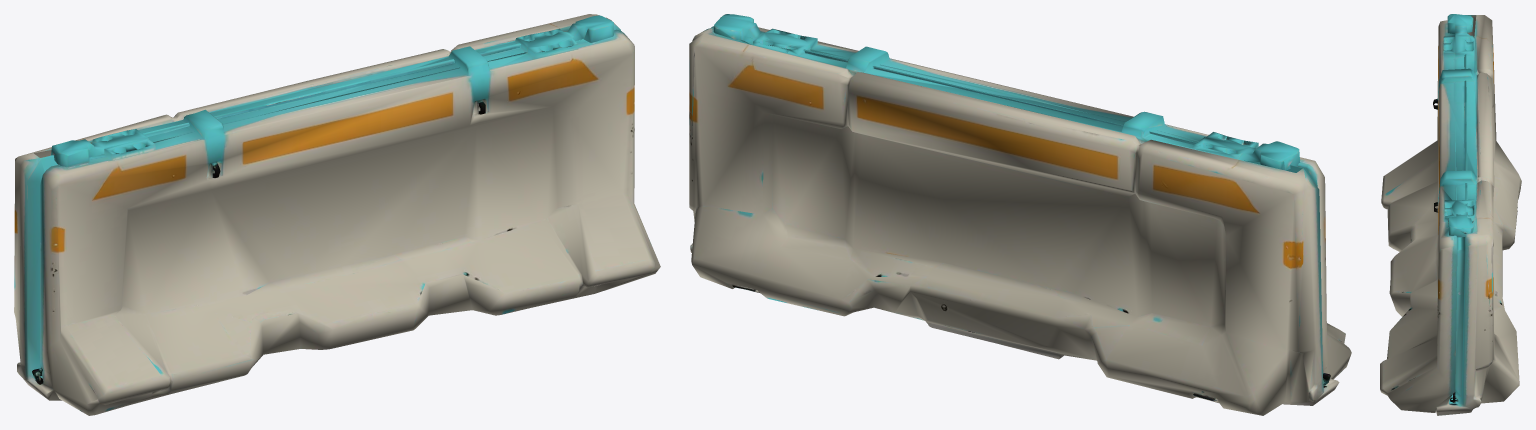
The model's file is safety-barrier-low.glb.
The picture shows the model from 3 angles, left to right: view 1: azimuth 30°, elevation 25°; view 2: azimuth 150°, elevation 25°; view 3: azimuth 270°, elevation 25°; orthographic projection. The views are drawn at different scales.
Parts seen in each view (by area): view 1: Tripo_tripo_node_2e76745e-7847-499e-b824-362959bfa583; view 2: Tripo_tripo_node_2e76745e-7847-499e-b824-362959bfa583; view 3: Tripo_tripo_node_2e76745e-7847-499e-b824-362959bfa583.
Boxes of the visible parts, x1=… form: Tripo_tripo_node_2e76745e-7847-499e-b824-362959bfa583: x1=14, y1=14, x2=660, y2=415; Tripo_tripo_node_2e76745e-7847-499e-b824-362959bfa583: x1=689, y1=14, x2=1351, y2=415; Tripo_tripo_node_2e76745e-7847-499e-b824-362959bfa583: x1=1380, y1=14, x2=1521, y2=415.
Size of the model in its own units: 1 by 0.3973 by 0.2622.
1 material, 1 textured.
